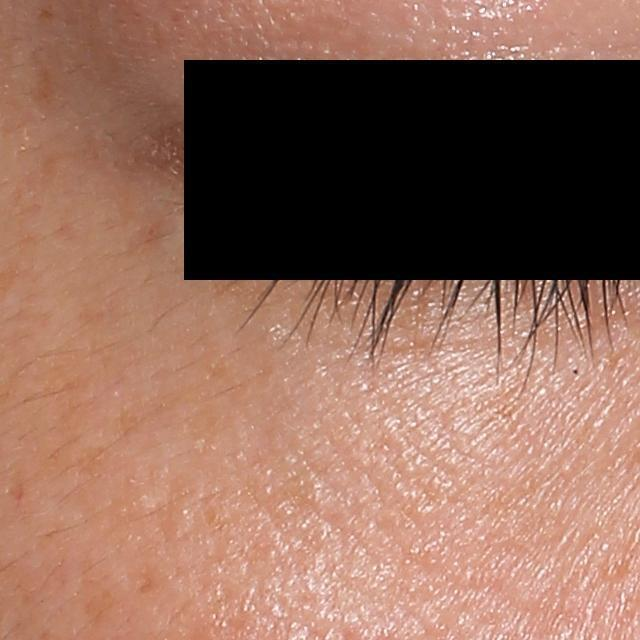melasma: (119, 203, 180, 264), (23, 56, 59, 128), (67, 442, 117, 489)
